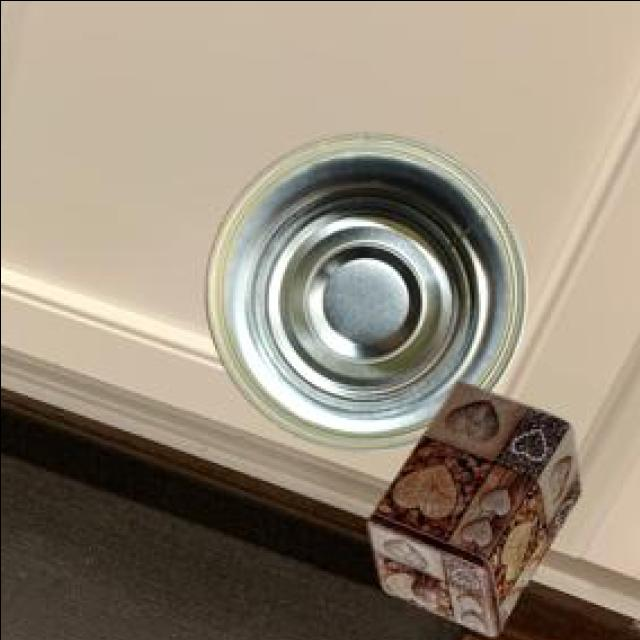logam: (202, 130, 522, 447), (364, 377, 576, 632)
